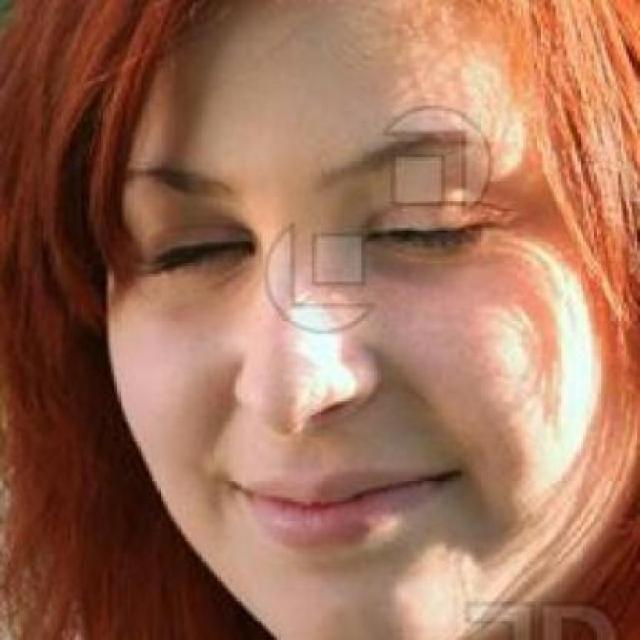drowsy: (370, 206, 484, 266), (142, 219, 245, 279)
